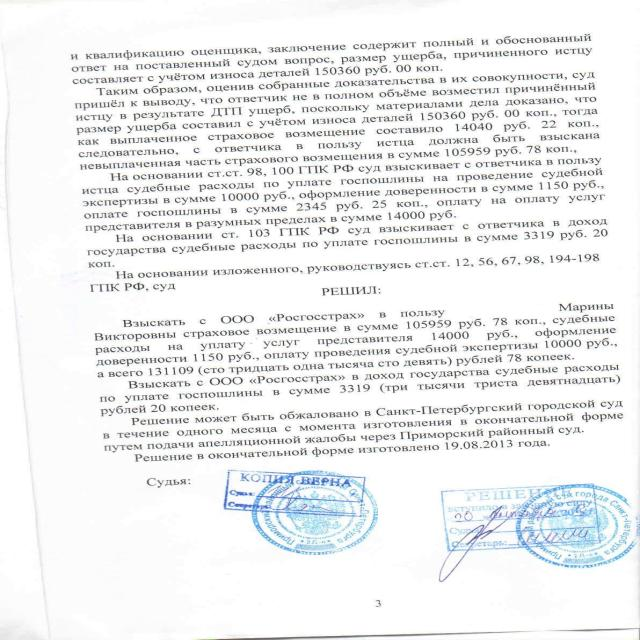stamps: (422, 468, 640, 604), (209, 471, 404, 565)
